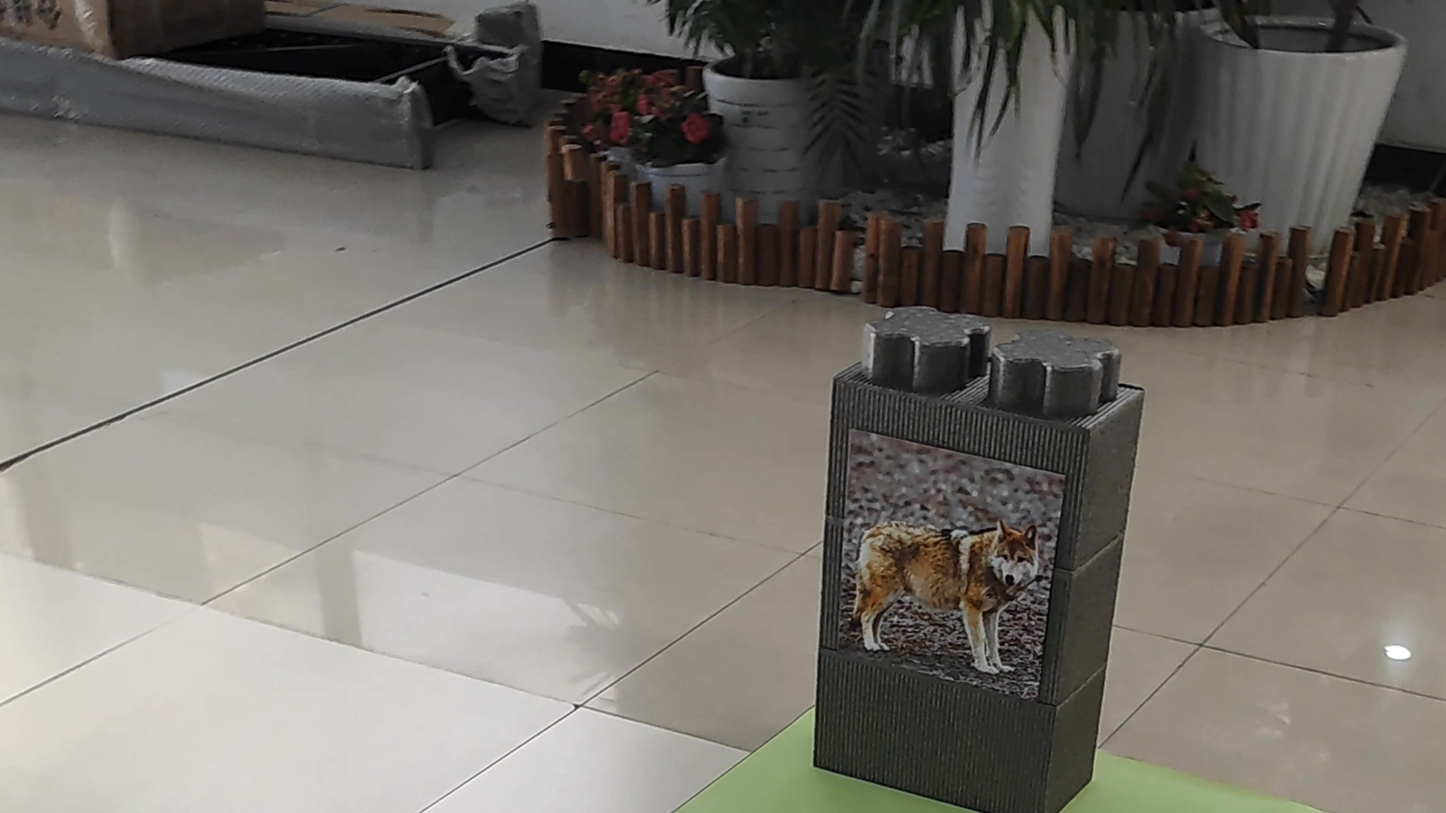wolf: (824, 472, 1038, 678)
